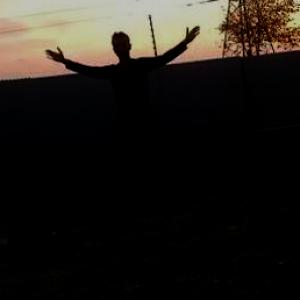takeoff: (62, 21, 228, 209)
